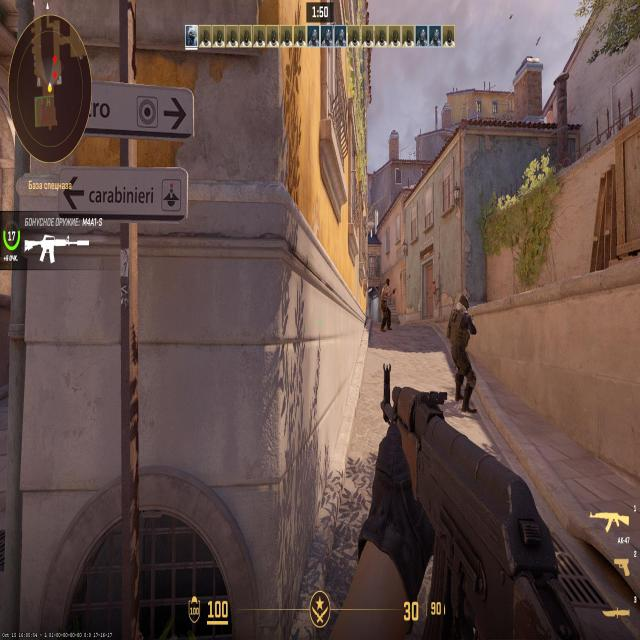CT: (454, 293, 472, 402)
CT_heat: (458, 294, 468, 310)
T: (381, 277, 391, 323)
T_heat: (384, 278, 390, 288)
